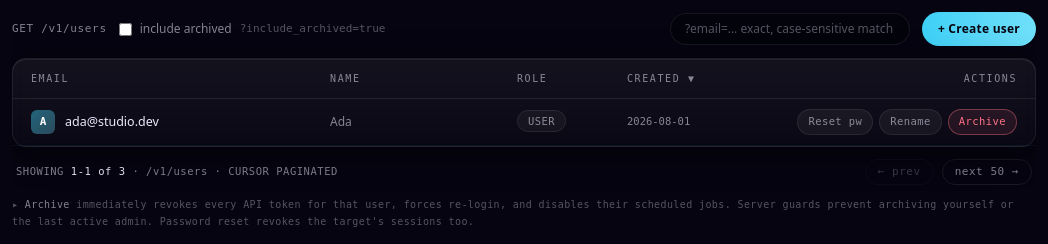
Test case: toggling include archived sets include_archived=true and resets the cursor
Expected: the text "ada@studio.dev" is shown, left=65, top=112, right=159, bottom=131
Click the button "next 50 →": (987, 172) left=942, top=159, right=1032, bottom=185
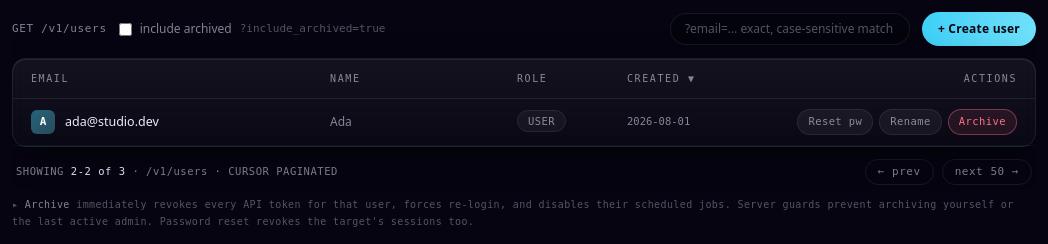
Click the checkbox labelled "include archived ?include_archived=true": (125, 29) left=119, top=22, right=132, bottom=36
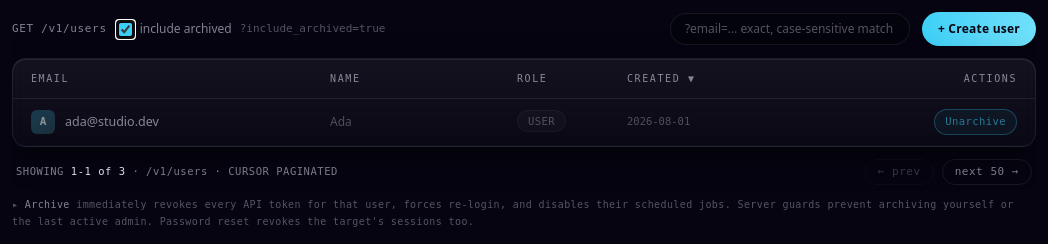
Result: the button with aria-label "Unarchive ada@studio.dev" is shown at left=934, top=109, right=1017, bottom=135
